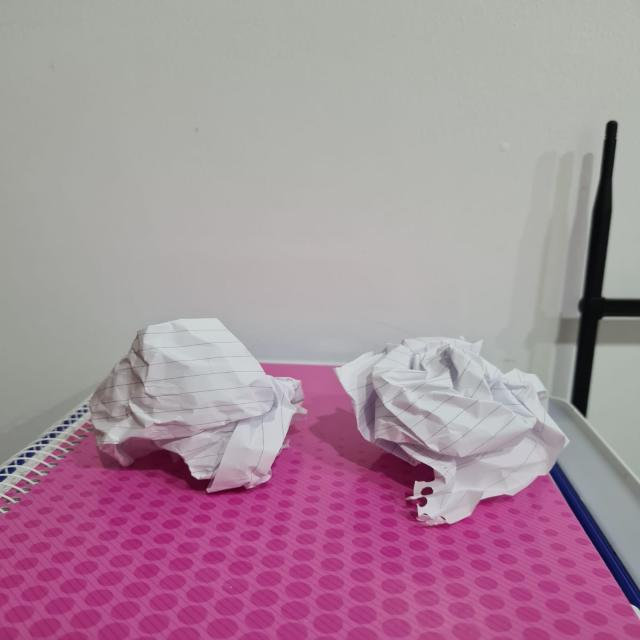Paper: (334, 336, 565, 528), (91, 316, 305, 493)
